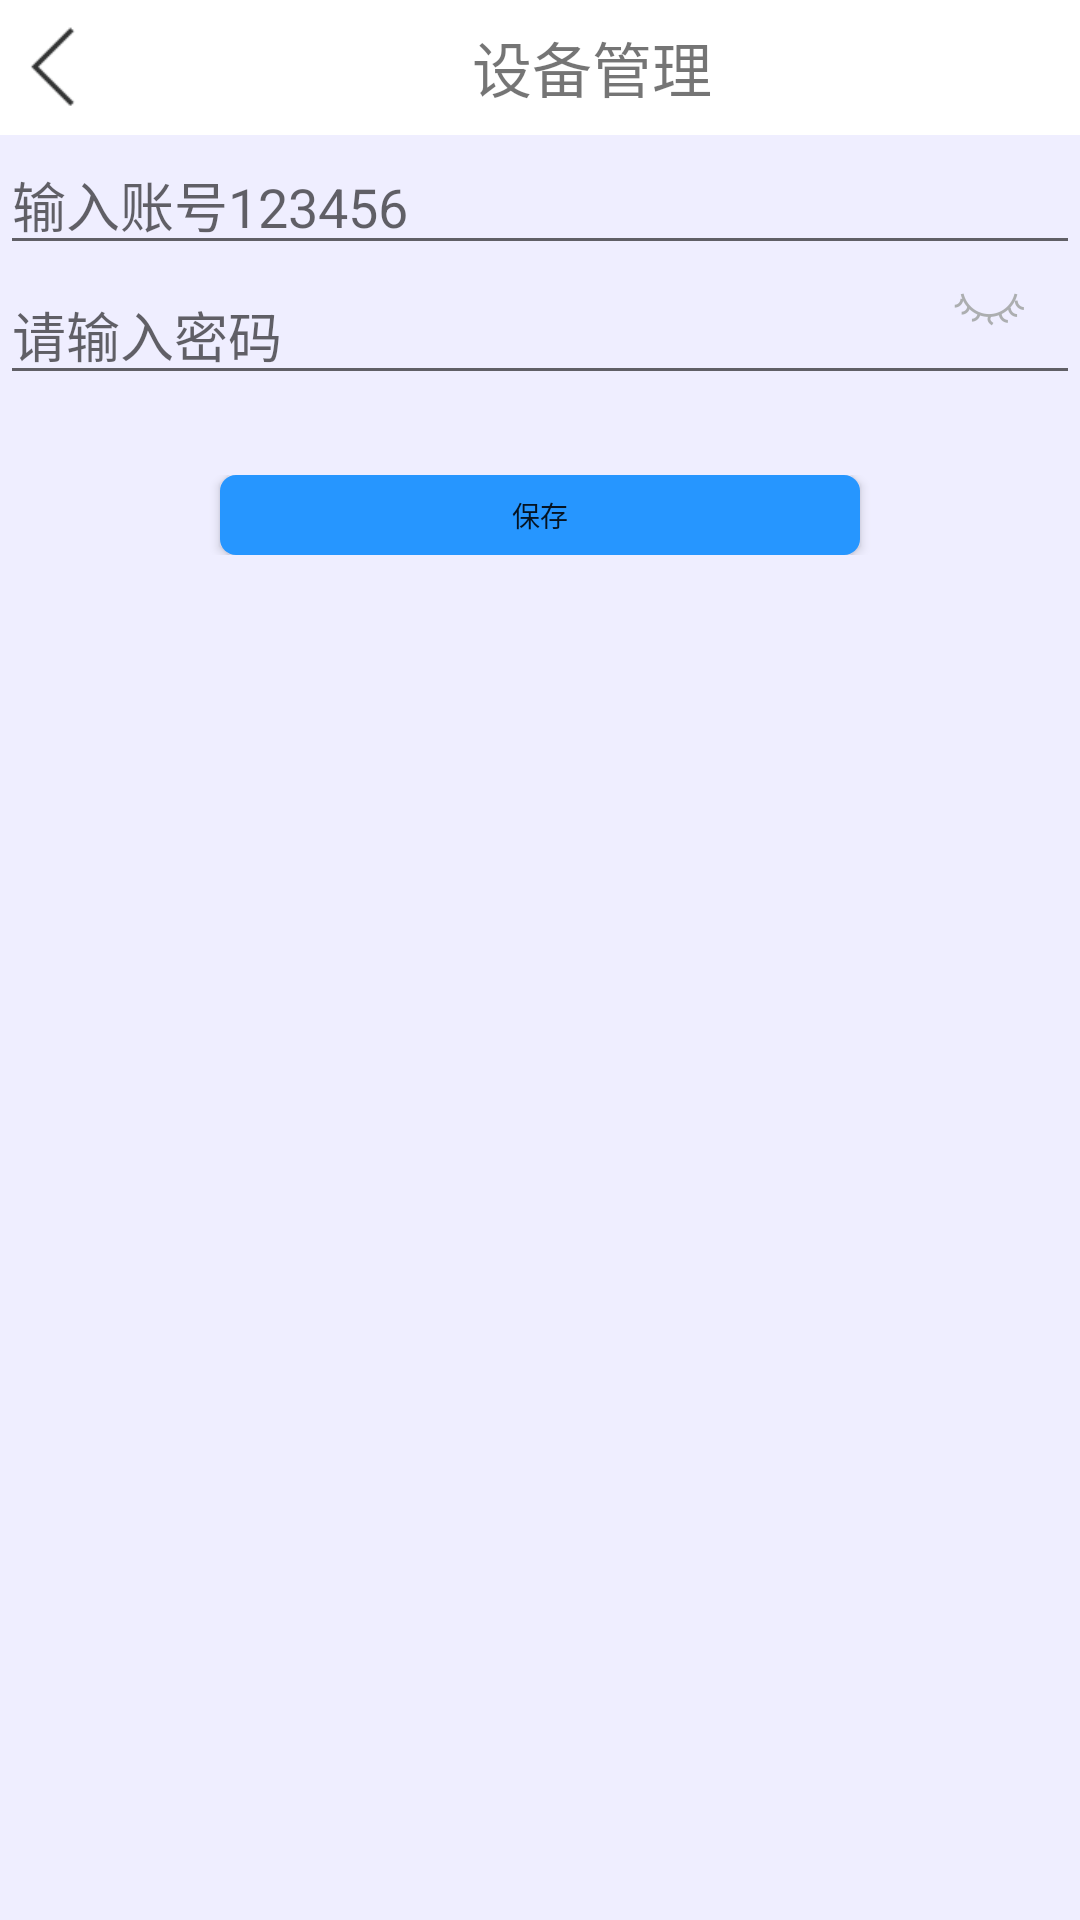

Named icons in this screenshot (1080x1920) and their bounding boxes, (x1, y1, x2, y2):
back: (31, 27, 74, 106)
eye check: (955, 294, 1024, 325)
